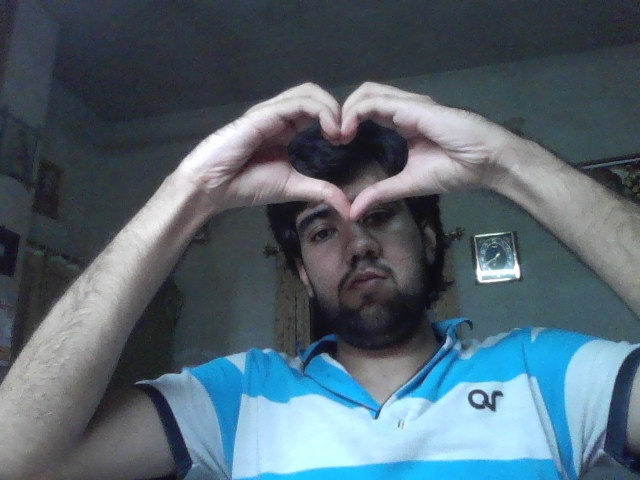Love: (195, 82, 490, 220)
